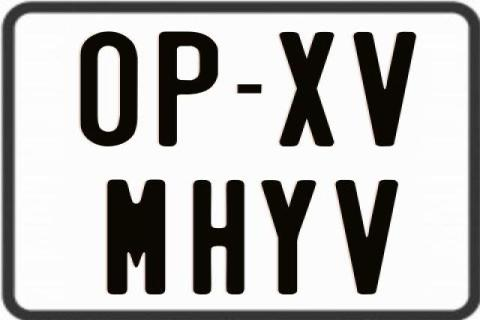0: (79, 31, 137, 147)
H: (192, 180, 245, 298)
M: (106, 177, 168, 293)
P: (156, 30, 217, 148)
V: (335, 179, 403, 297), (350, 32, 414, 150)
X: (277, 31, 333, 151)
Y: (260, 179, 321, 297)
